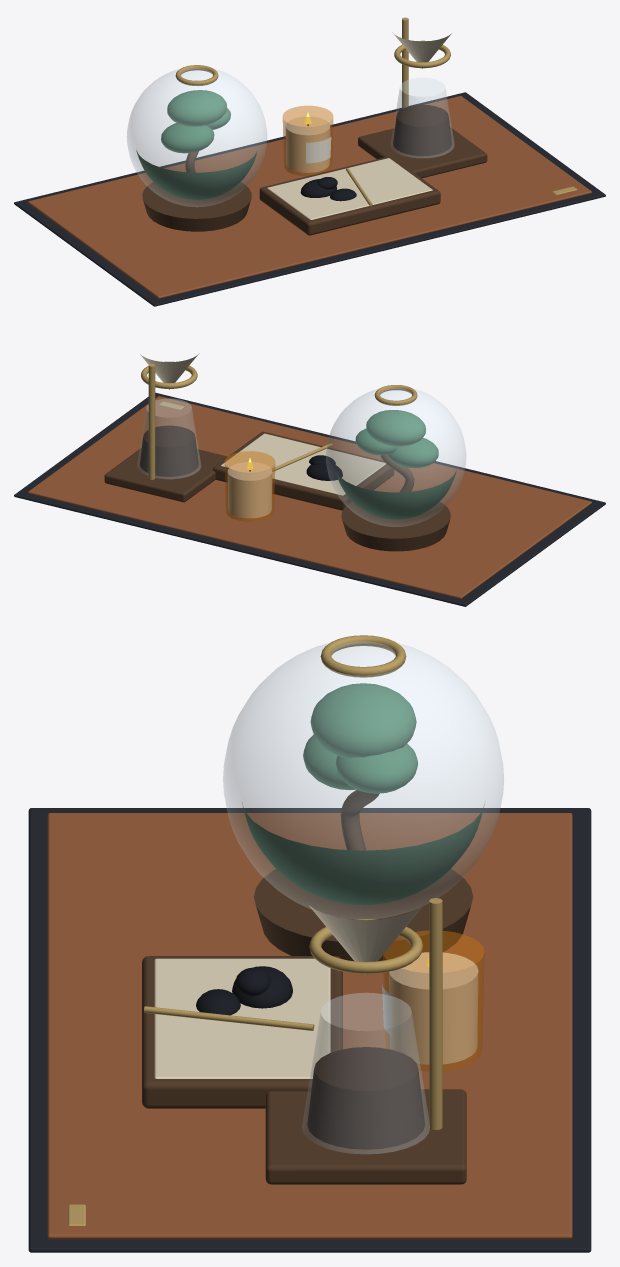
The model's file is atelier-decor-botanical-heritage.glb.
The picture shows the model from 3 angles, top to bottom: view 1: azimuth 30°, elevation 25°; view 2: azimuth 150°, elevation 25°; view 3: azimuth 270°, elevation 25°; orthographic projection. The views are drawn at different scales.
Bounding box in the file's own units: 0.78 × 0.234 × 0.4201.
